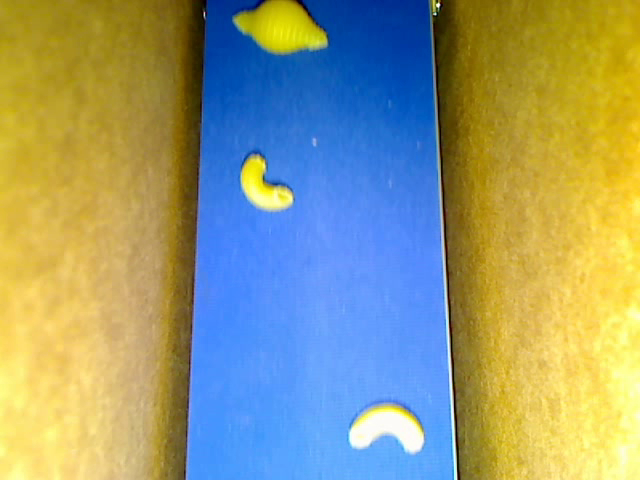elbow: (348, 402, 423, 452), (241, 153, 293, 212)
shell: (232, 1, 327, 54)
